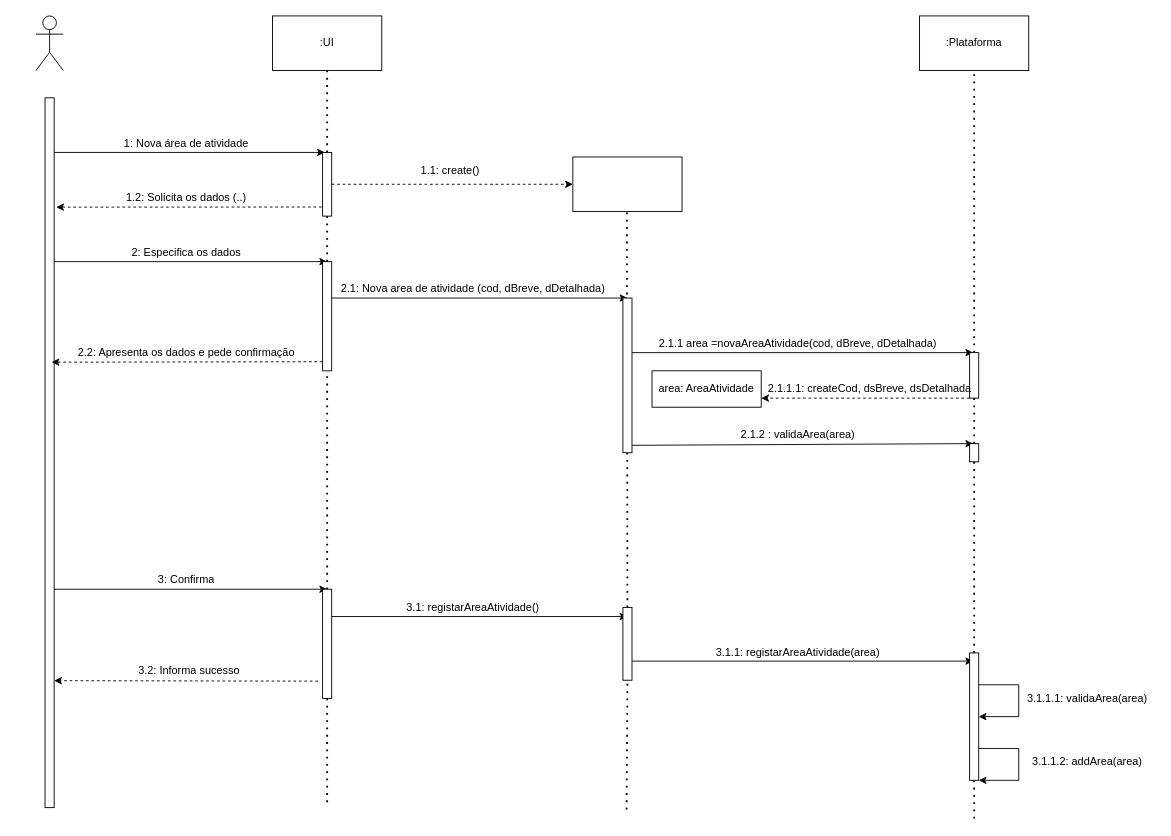
Some shapes in this 1171 by 836 pixel diagram are drawn without their labels. The centre of each missing label's shape, as x and y in pixels:
":CTRL" goes at pixel 627 184.
"Administrativo" goes at pixel 49 43.
